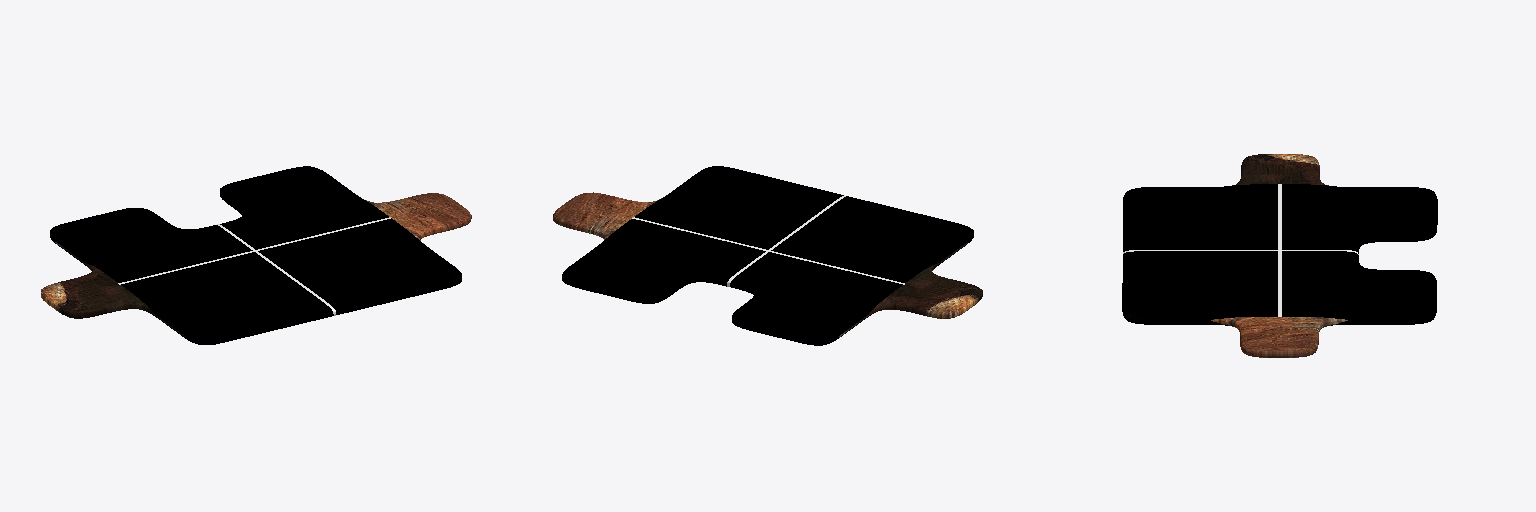
3 renders of one model, left to right at view 1: azimuth 30°, elevation 25°; view 2: azimuth 150°, elevation 25°; view 3: azimuth 270°, elevation 25°, orthographic.
Visible parts, largest first — view 1: Puzzle.008_Puzzle.008_GoldenEggMaterial; view 2: Puzzle.008_Puzzle.008_GoldenEggMaterial; view 3: Puzzle.008_Puzzle.008_GoldenEggMaterial.
Boxes of the visible parts, box(x1,y1,x2,y2) form: Puzzle.008_Puzzle.008_GoldenEggMaterial: box(41, 166, 471, 344); Puzzle.008_Puzzle.008_GoldenEggMaterial: box(553, 166, 982, 345); Puzzle.008_Puzzle.008_GoldenEggMaterial: box(1122, 154, 1437, 357).
Bounding box in the file's own units: 0.375 × 0.0092 × 0.2513.
1 materials, 1 textured.